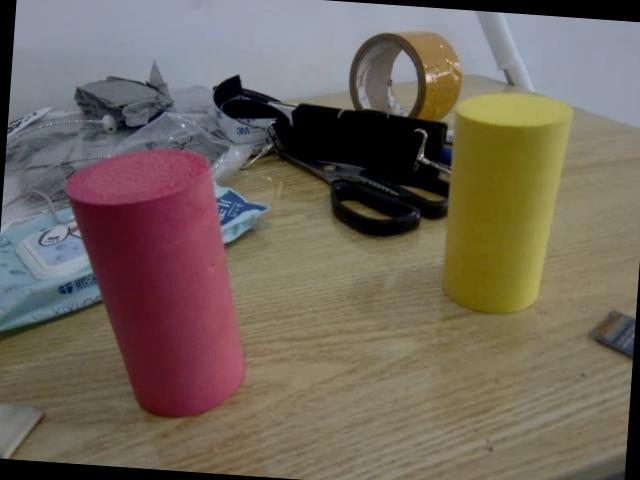red_cylinder: (53, 141, 269, 424)
yellow_cylinder: (439, 87, 570, 320)
